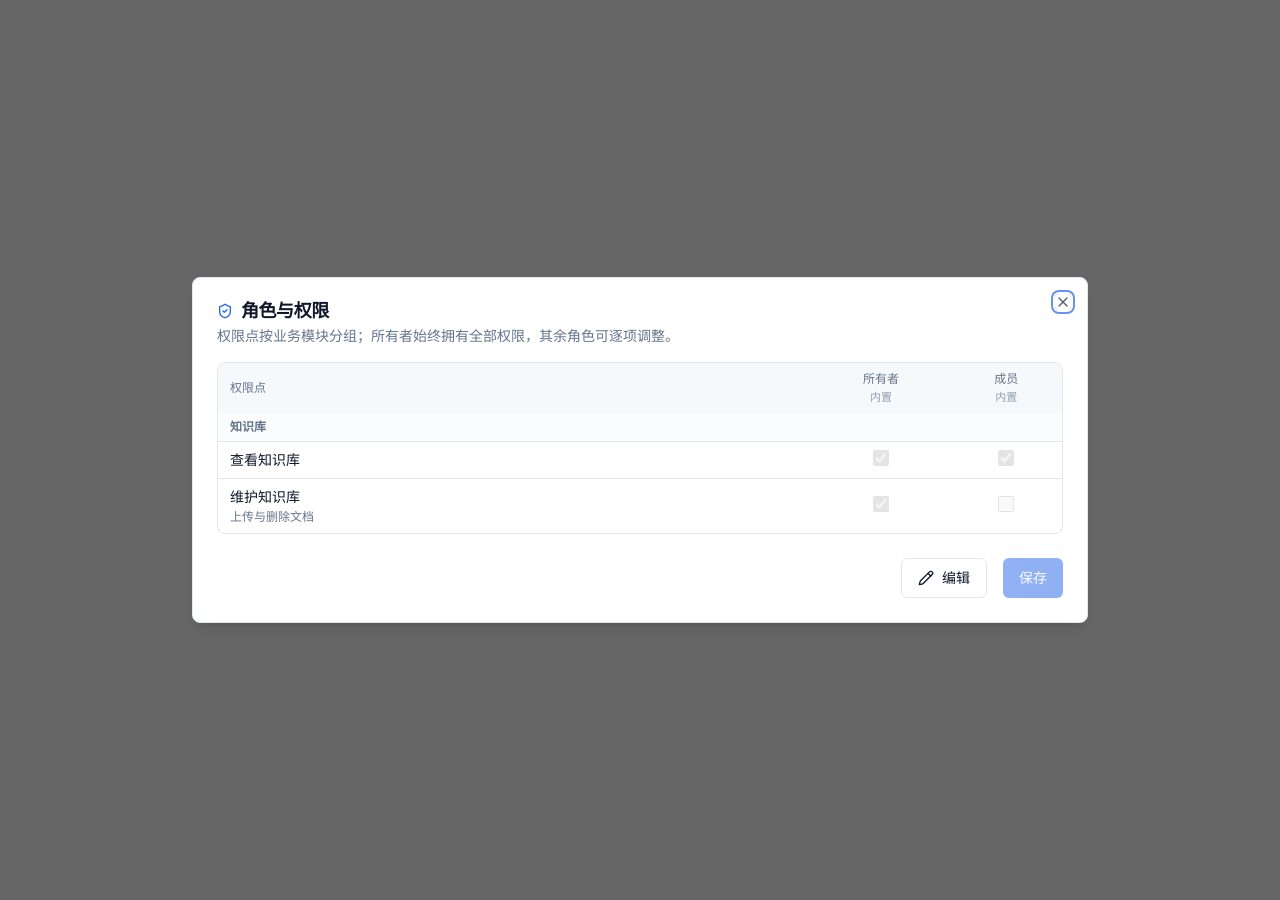
RolePermissionDialog › 无变化时保存置灰；修改后只提交变化的角色
Later steps or results of the test are not shown.
What coordinates should you click on to do the following:
click the button "编辑"
I would click on:
 (944, 578)
Its box is [901,558,987,598].
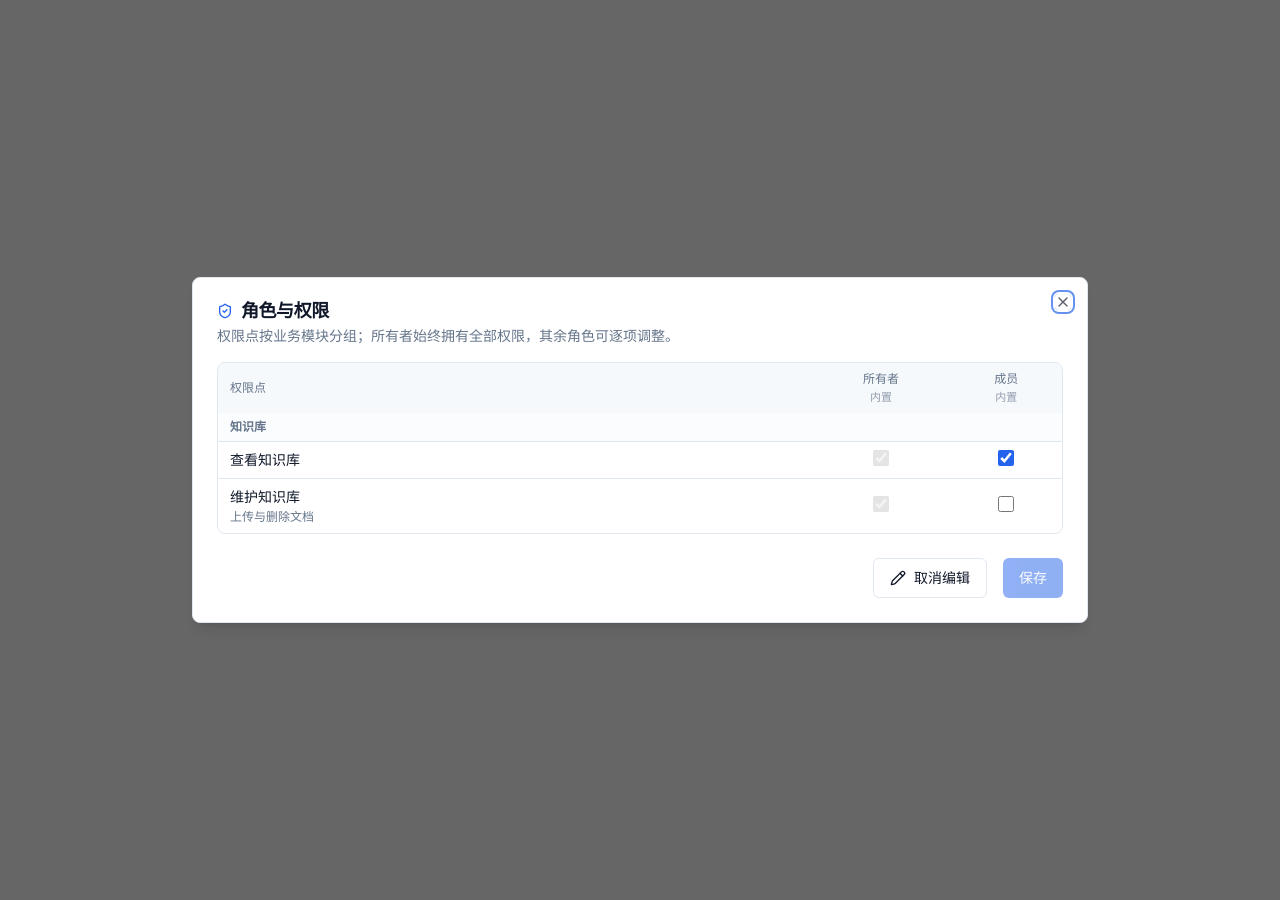
Expected: the button "保存" is disabled, [1003,558,1063,598]
What coordinates should you click on to do the following:
click the checkbox named "成员 的 维护知识库"
I would click on:
 (1006, 504)
Its box is [998,496,1014,512].
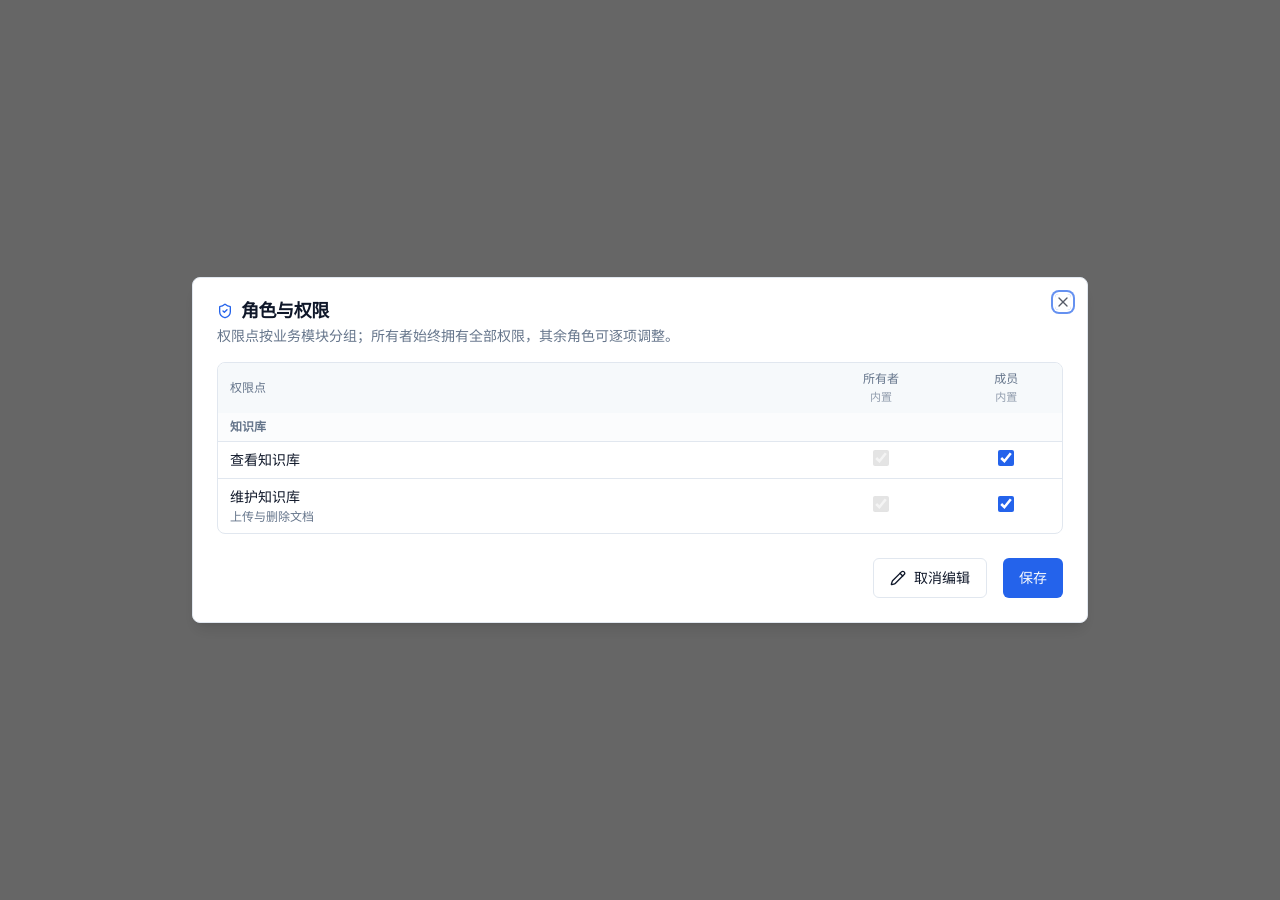
Now the button "保存" is enabled, box [1003,558,1063,598]
